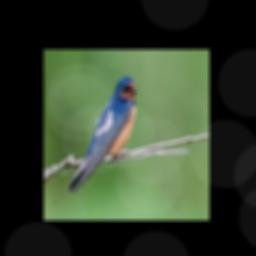Swallow: (68, 77, 138, 192)
